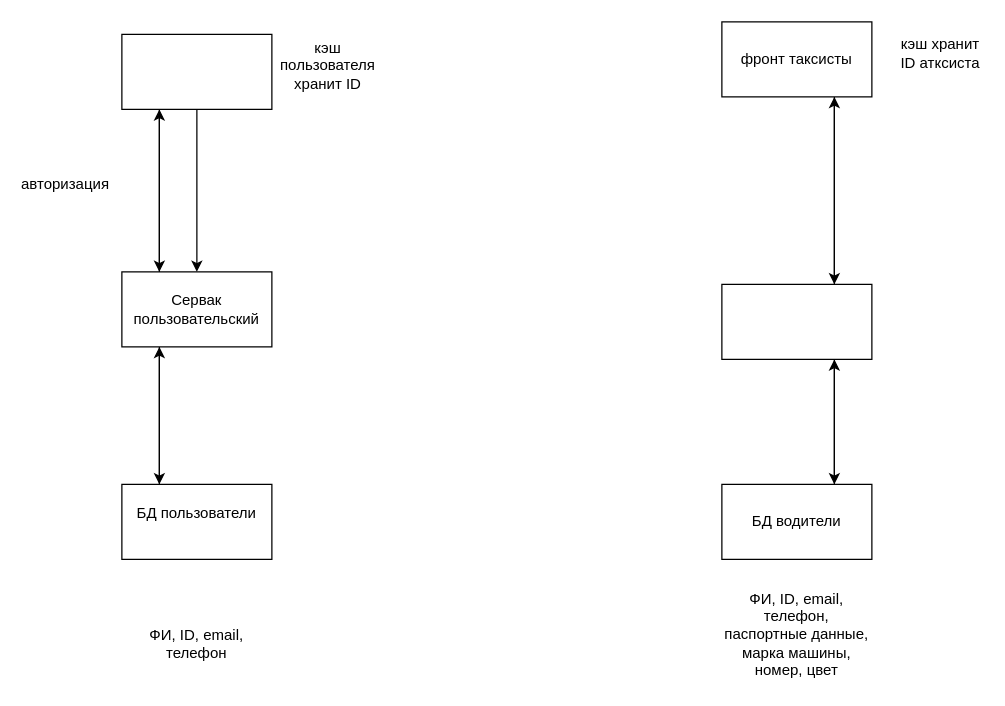
Image size: 1005x706. Some labels were removed from this diagram. Each missing label, with the centre of its shape:
"сервак таксисты" belongs at (x=796, y=321).
"фронт пользователи" belongs at (x=196, y=71).
